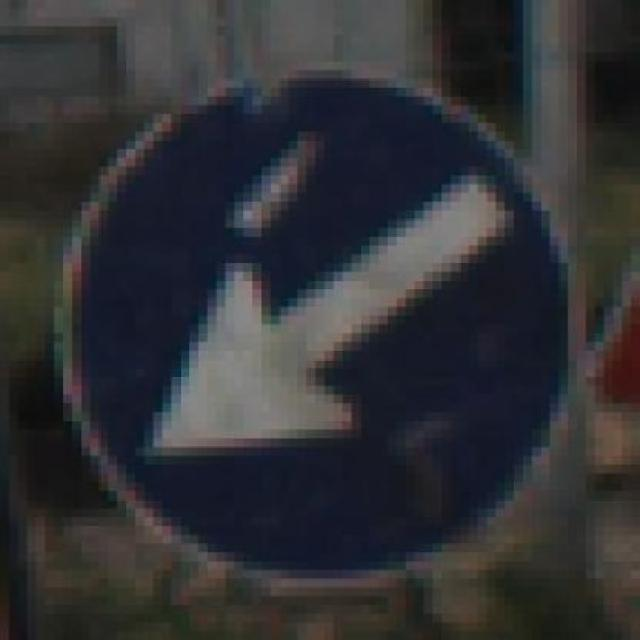Keep-Left: (36, 44, 613, 596)
